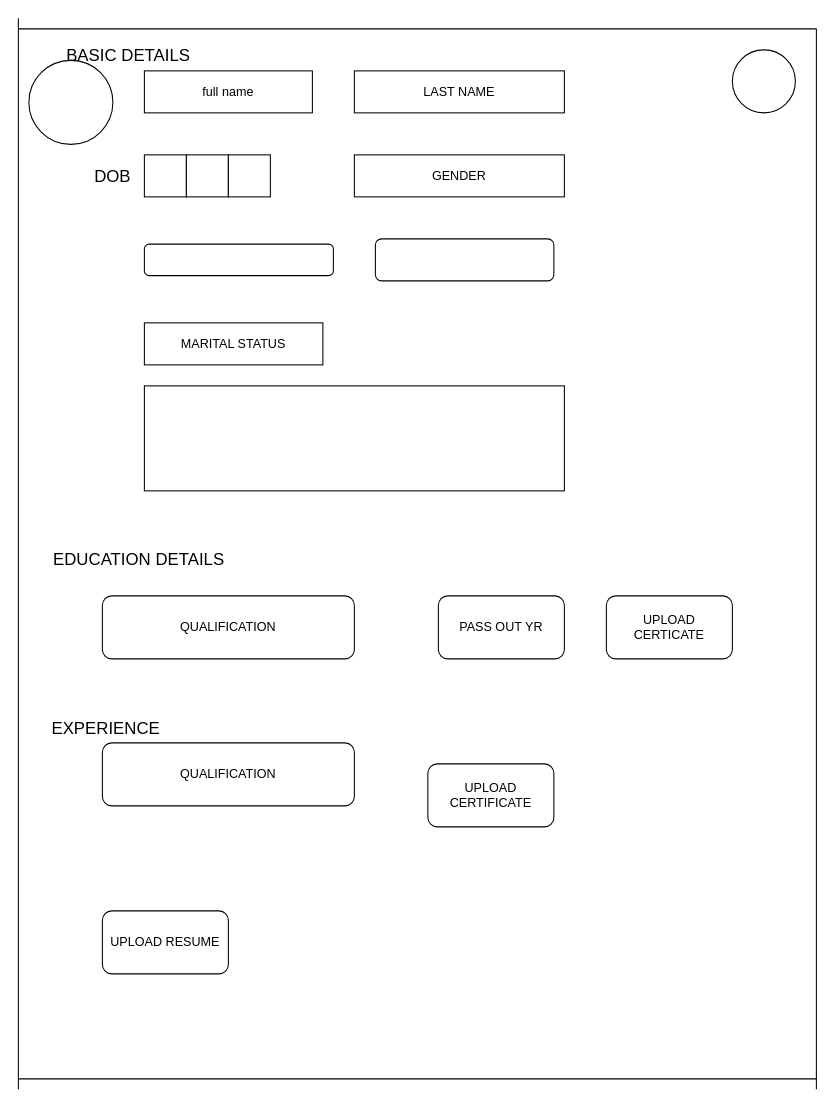
The diagram is 836 pixels wide and 1109 high, and some of its shapes have lost their labels. The shapes that lost their labels are listed below. From the top down, each one's box as (x1, y1, x2, y2) in pixels, then its label:
(731, 49, 795, 113): logout
(28, 59, 113, 144): PHOTO
(143, 243, 333, 276): mail id
(374, 238, 554, 281): phn number
(143, 385, 564, 491): ADDRESS
